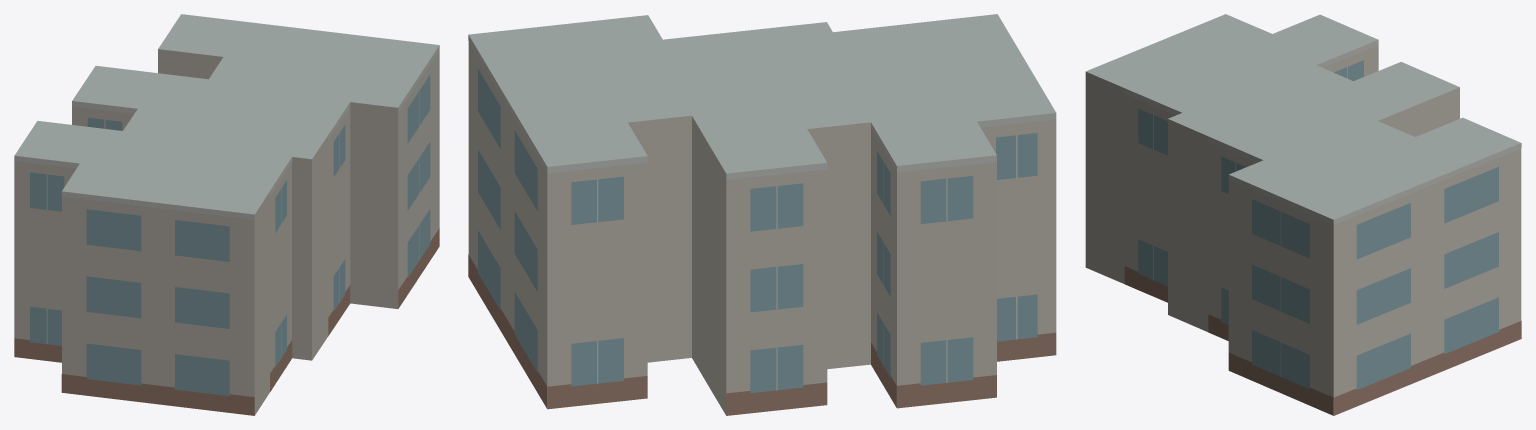
File: survey-upis-33012468.glb
3 renders of one model, left to right at view 1: azimuth 30°, elevation 25°; view 2: azimuth 150°, elevation 25°; view 3: azimuth 270°, elevation 25°, orthographic. The views are drawn at different scales.
Parts seen in each view (by area): view 1: survey-upis-33012468.tmp; view 2: survey-upis-33012468.tmp; view 3: survey-upis-33012468.tmp.
Boxes of the visible parts, x1,y1,x2,y2 form: survey-upis-33012468.tmp: (14,14,439,415); survey-upis-33012468.tmp: (468,14,1056,415); survey-upis-33012468.tmp: (1085,14,1521,415).
Size of the model in its own units: 20.61 by 9.15 by 18.44.
